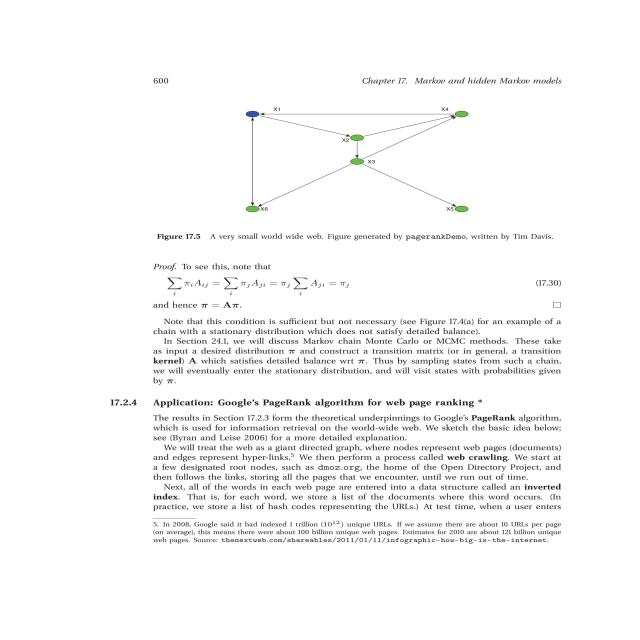diagram: (59, 98, 633, 258)
